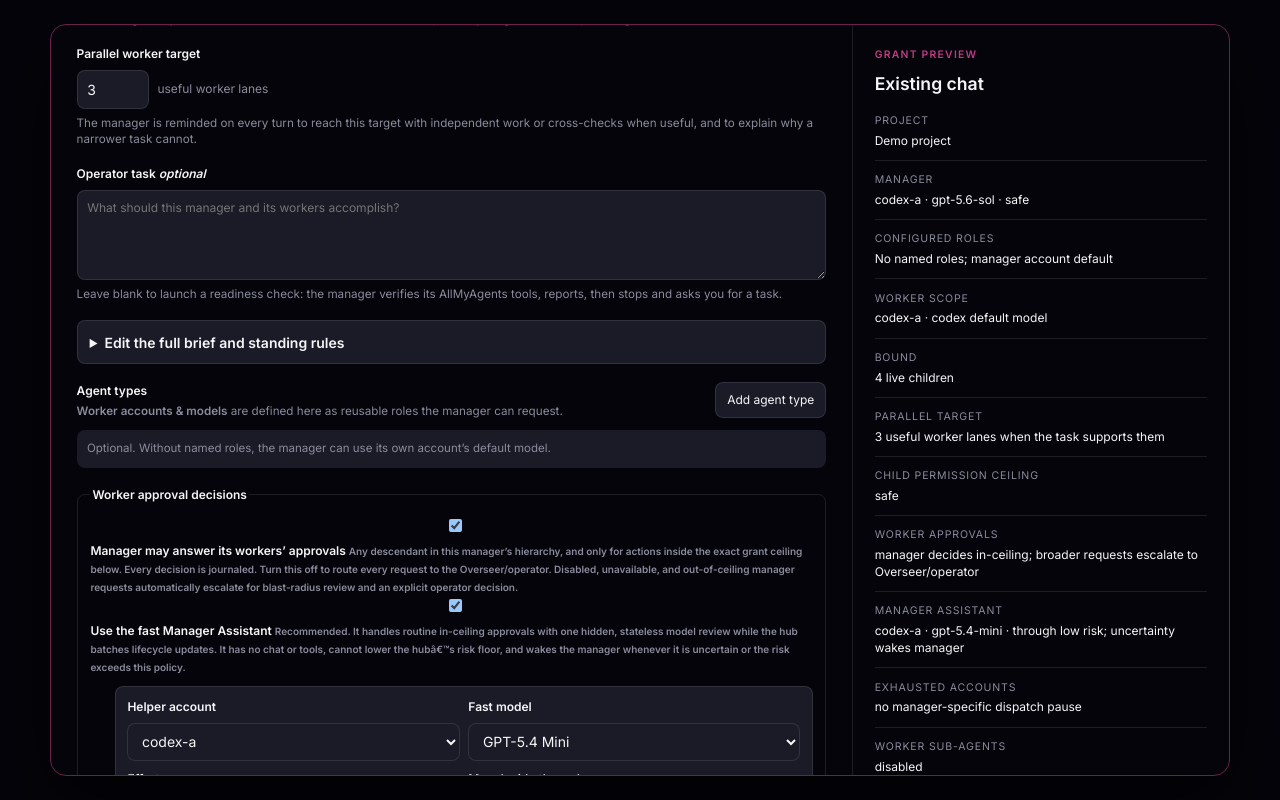
it: Manager setup › configures named agent types with purpose, fixed model and effort, or usage-aware selection
(page scrolled)
expect the text "Agent types" is shown: met, box [77, 383, 147, 398]
Click the button "Add agent type": (771, 400) [715, 382, 826, 418]
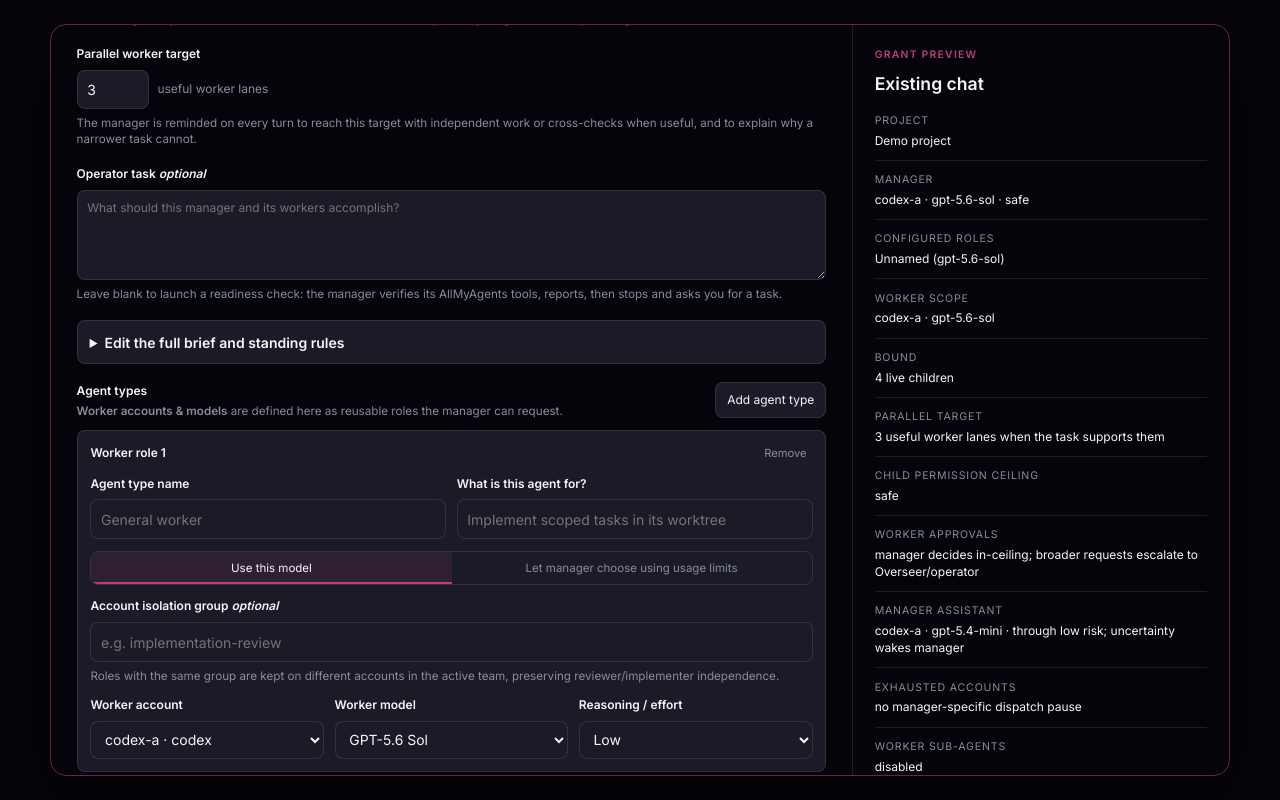
expect the field labelled "Agent type name" is shown: met, box [90, 499, 446, 539]
expect the button "Let manager choose using usage limits" is shown: met, box [452, 552, 812, 584]
